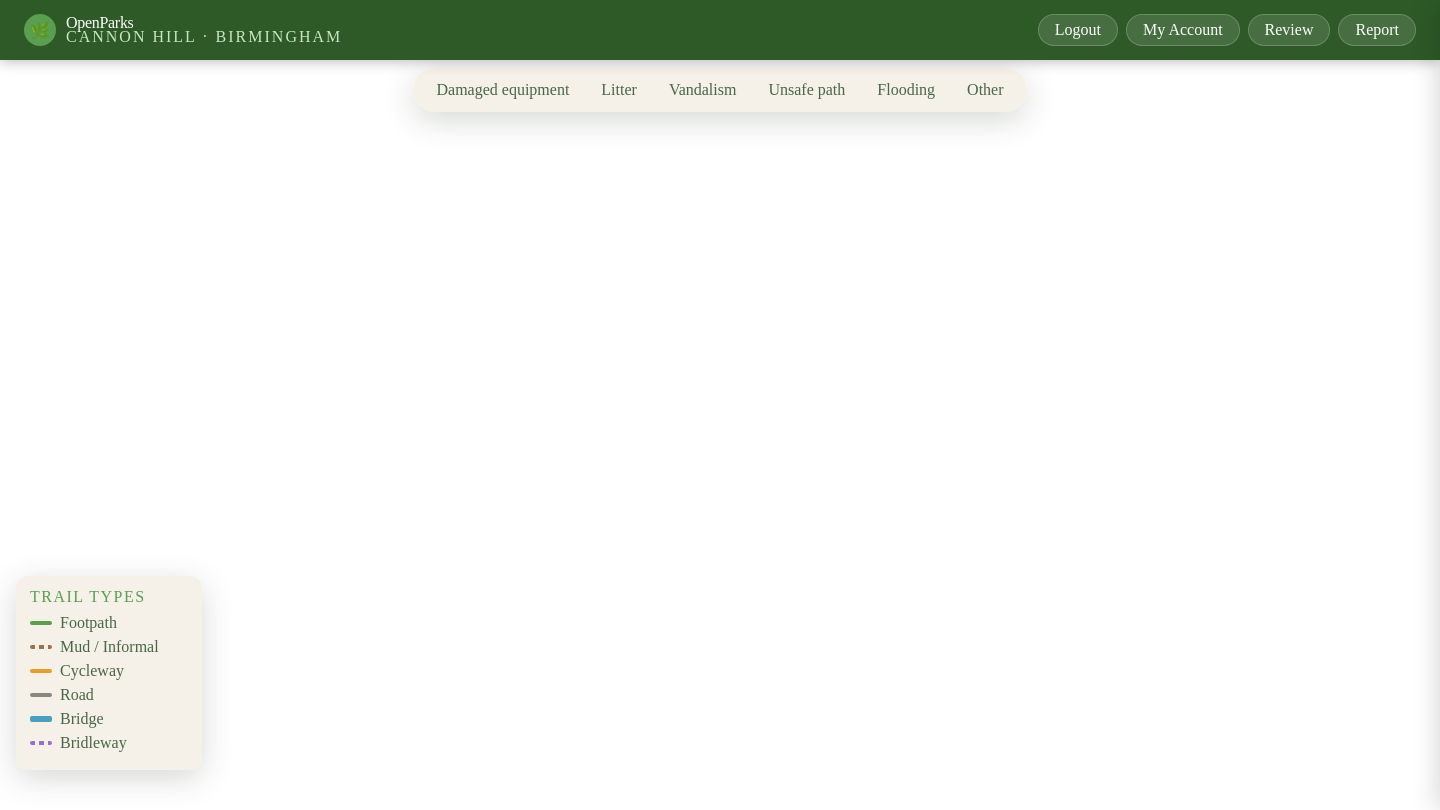
Test: MapRenderer (ParkMap) › clears token and hides Logout button after logout
The width and height of the screenshot is (1440, 810).
Click the button "Logout" at (1078, 30), box [1038, 14, 1118, 46]
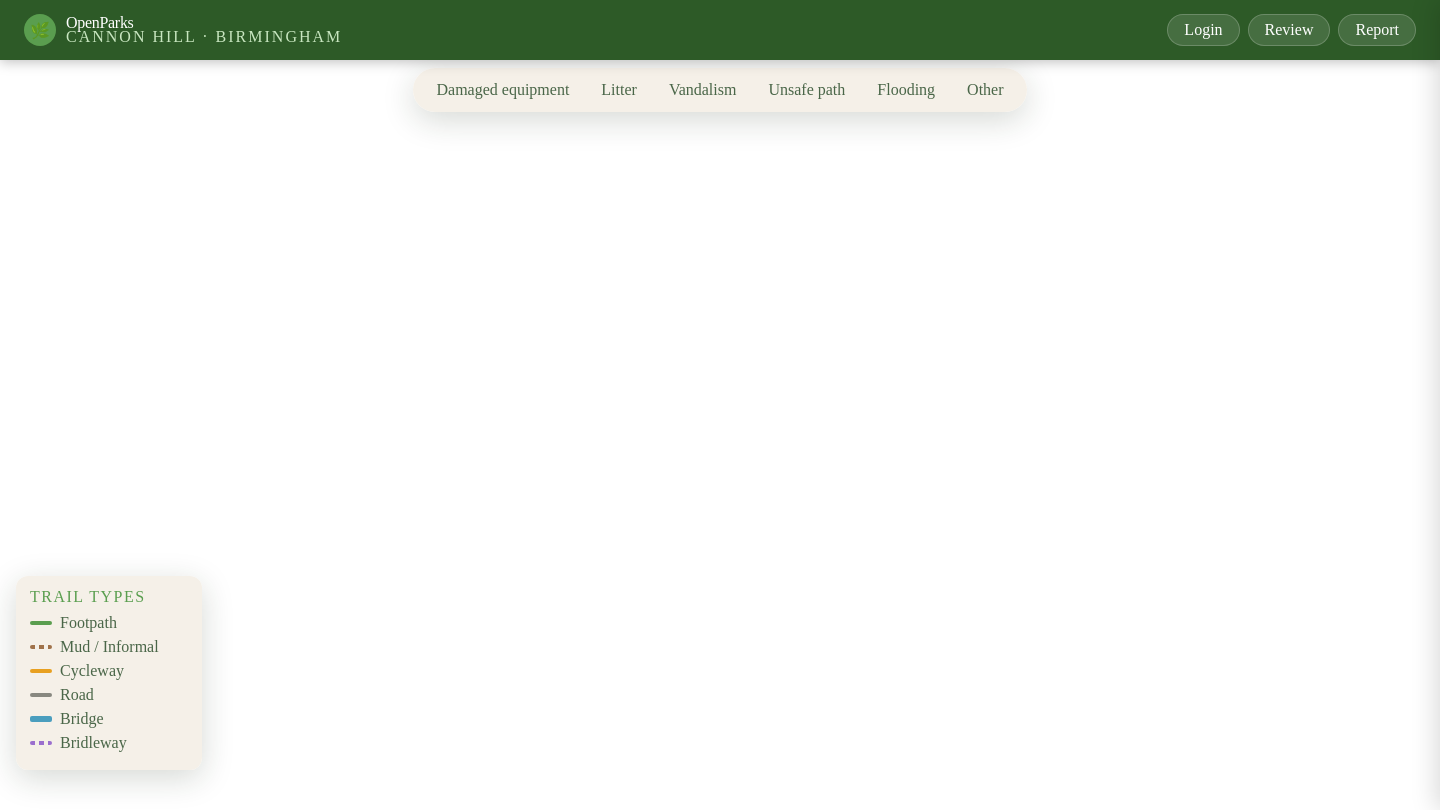
Expected: the button "Logout" is gone
Expected: the button "Login" is shown, [1167, 14, 1240, 46]
